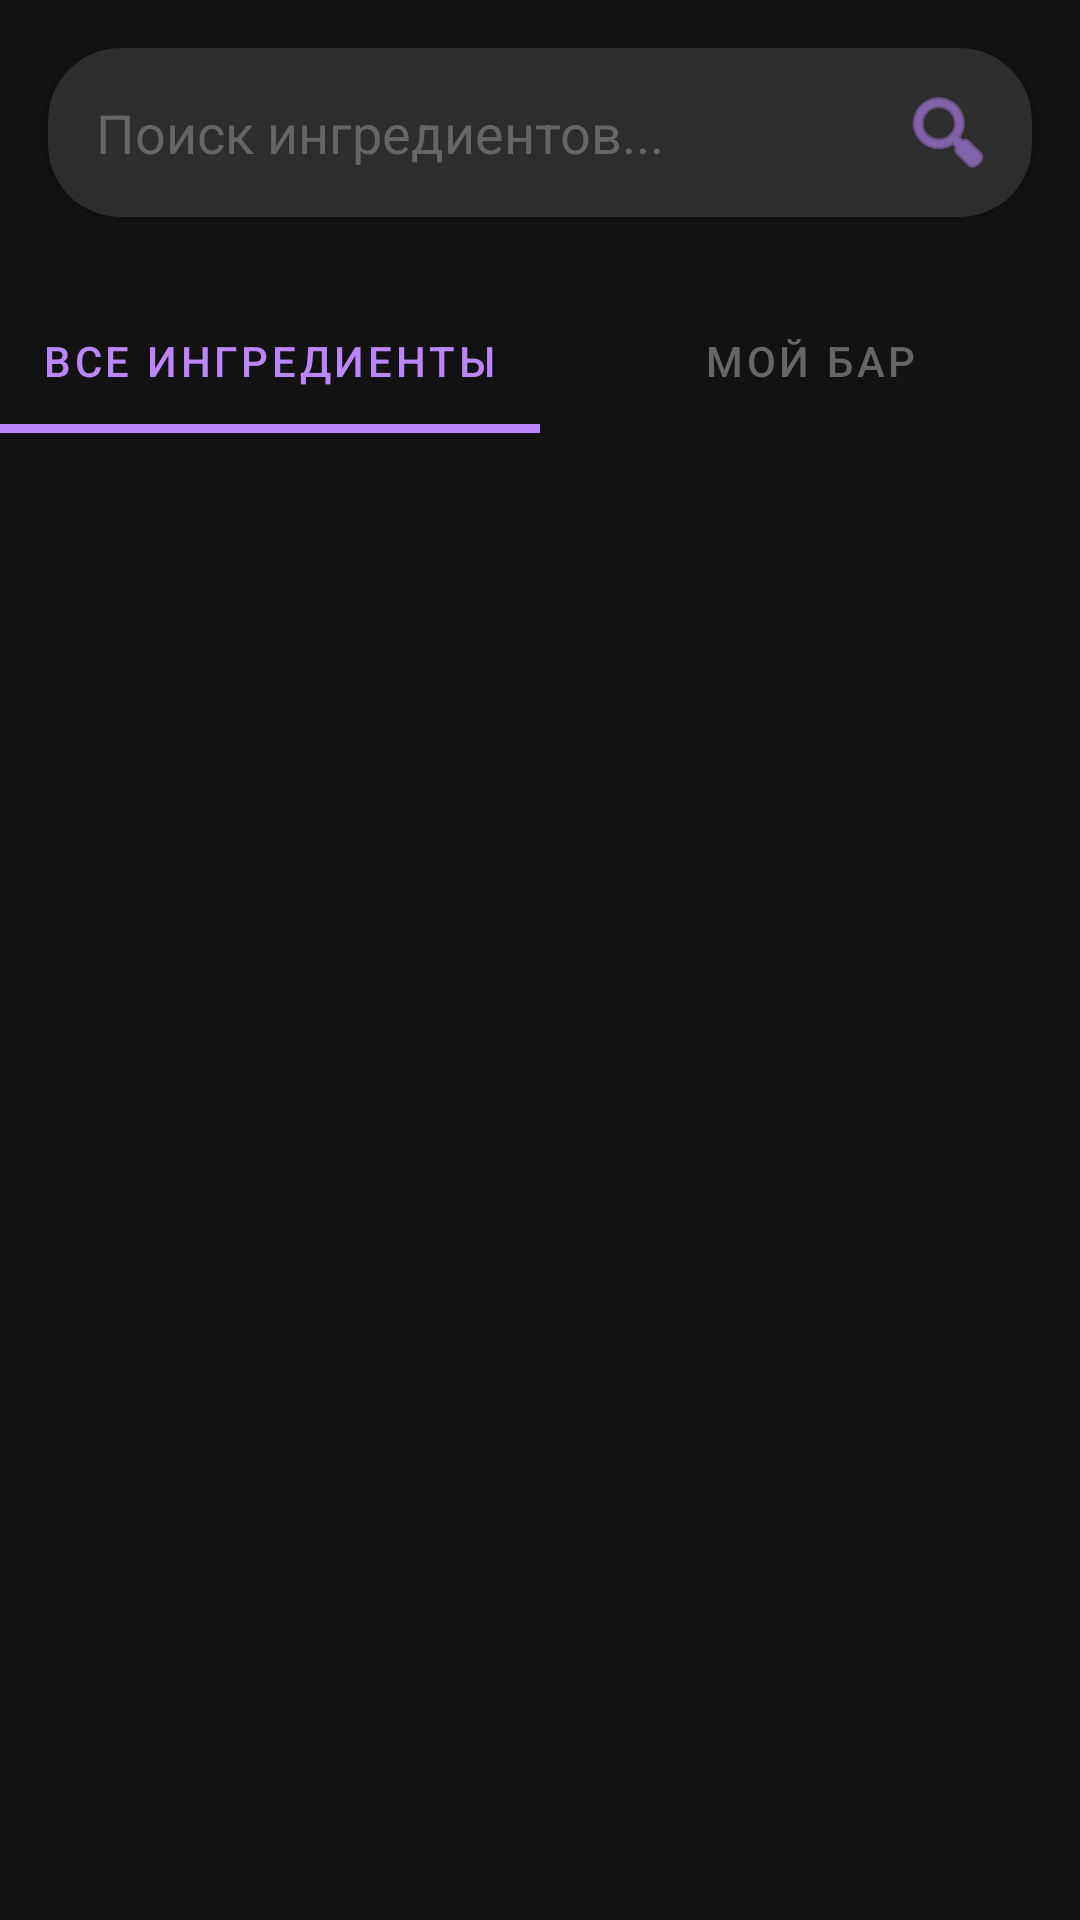

Locate icon controls on the screen. Image size 1080 × 1920, boxes as (x1, y1, x2, y2).
search: (912, 97, 983, 168)
